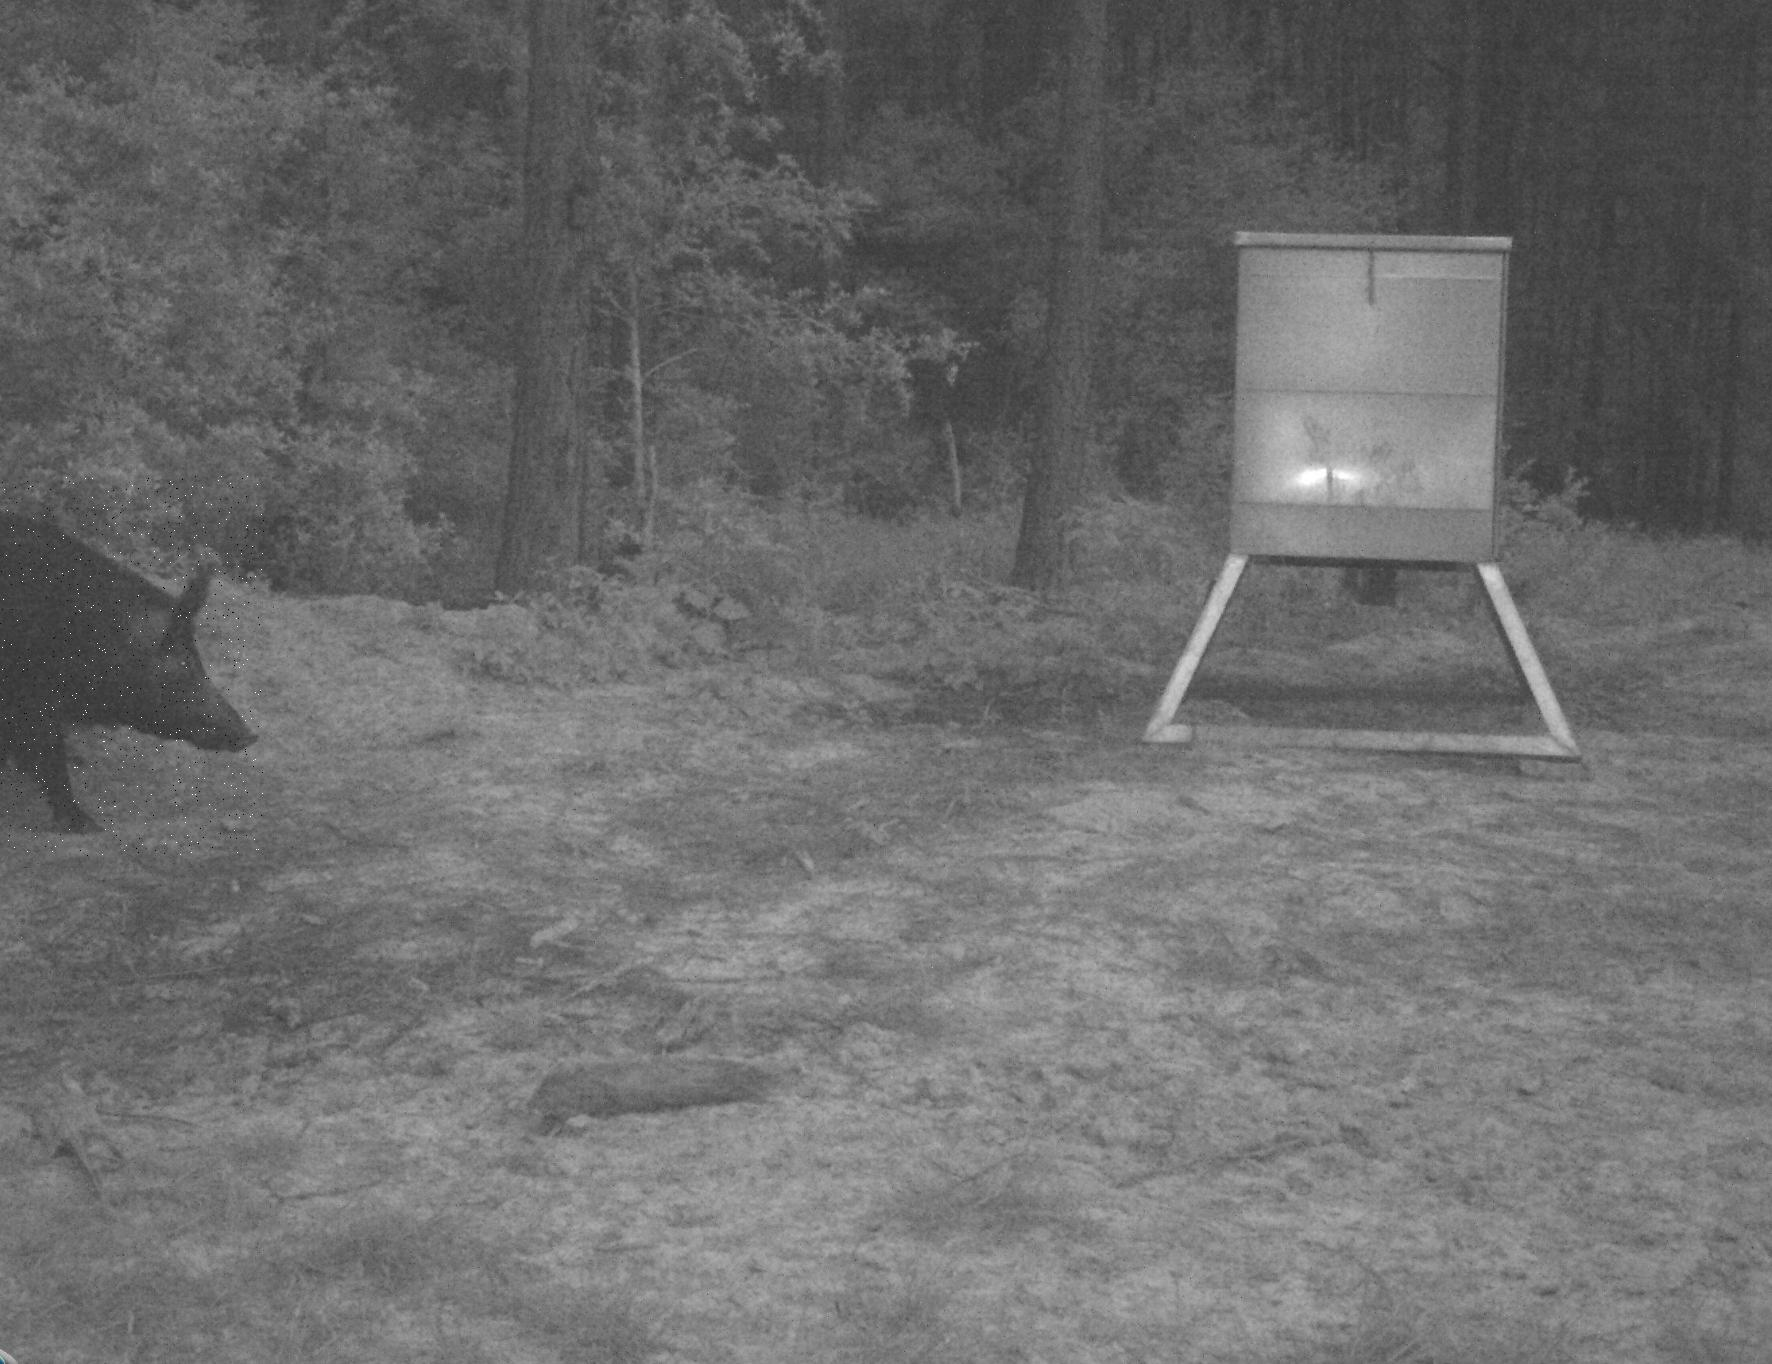Hog: (0, 476, 264, 857)
